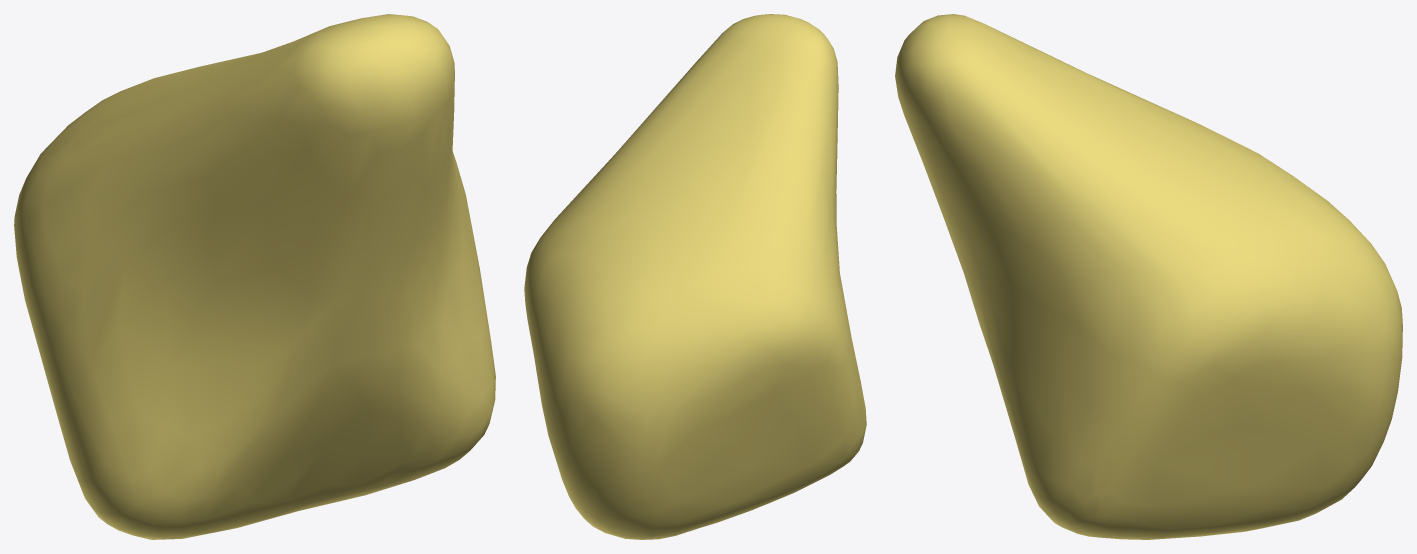
Rendered from pyramis-of-vermis.glb.
3 views of the same model, side by side, from view 1: azimuth 30°, elevation 25°; view 2: azimuth 150°, elevation 25°; view 3: azimuth 270°, elevation 25° (orthographic). The views are drawn at different scales.
Parts seen in each view (by area): view 1: Pyramis of vermis; view 2: Pyramis of vermis; view 3: Pyramis of vermis.
Part boxes in pixels (x1,y1,x2,y2): Pyramis of vermis: [14, 14, 495, 539]; Pyramis of vermis: [524, 14, 866, 539]; Pyramis of vermis: [895, 14, 1402, 539].
Size of the model in its own units: 0.0126 by 0.0166 by 0.0157.
